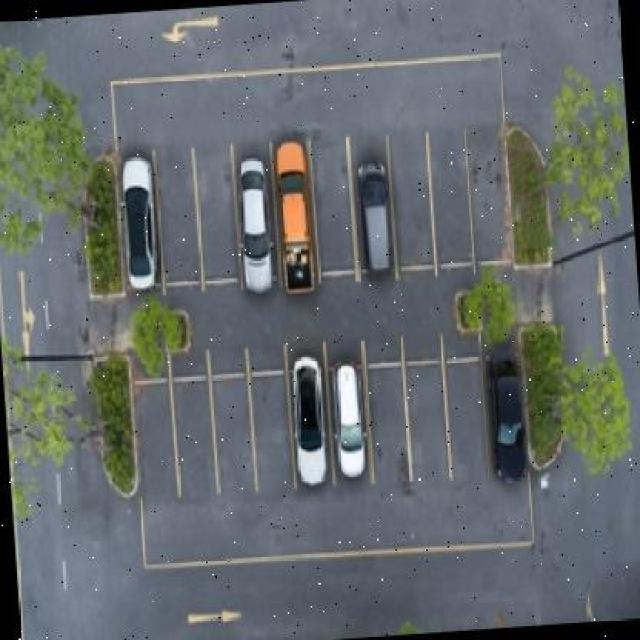Car: (275, 142, 316, 298), (353, 152, 398, 287), (486, 353, 530, 487), (287, 358, 330, 492), (235, 158, 275, 299), (329, 361, 370, 486), (121, 157, 159, 288)
Empty: (443, 361, 492, 487), (312, 135, 356, 273), (469, 126, 513, 260), (429, 130, 473, 264), (157, 150, 200, 286), (196, 149, 238, 284), (389, 133, 432, 264), (249, 375, 292, 501), (406, 366, 449, 492), (367, 366, 409, 490), (174, 383, 217, 501), (212, 378, 253, 499), (137, 387, 177, 506)
